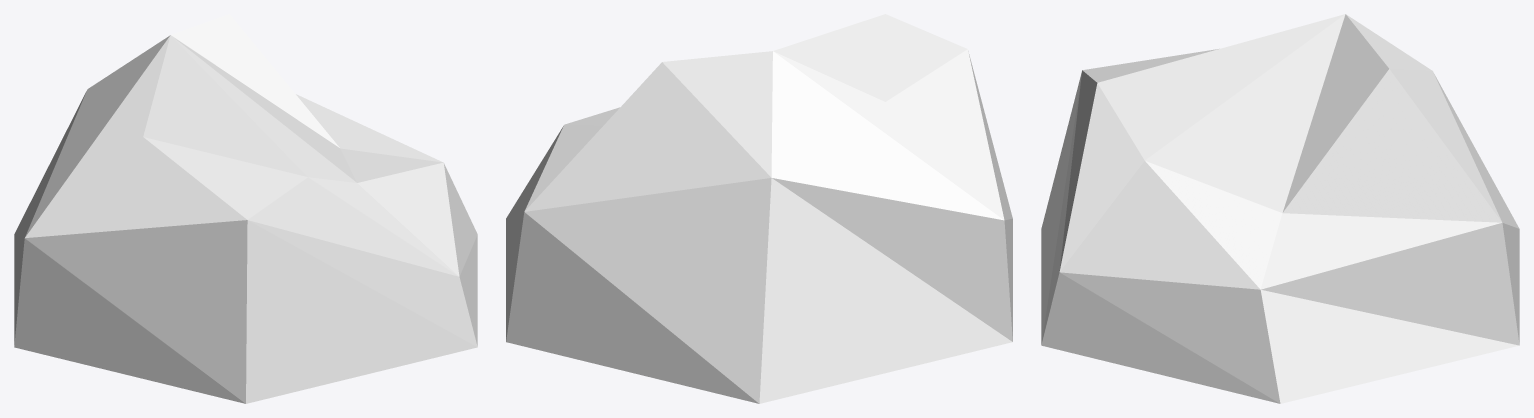
The model's file is Rock_White_2.fbx.
The picture shows the model from 3 angles, left to right: view 1: azimuth 30°, elevation 25°; view 2: azimuth 150°, elevation 25°; view 3: azimuth 270°, elevation 25°; orthographic projection. The views are drawn at different scales.
Parts seen in each view (by area): view 1: Rock_White_2; view 2: Rock_White_2; view 3: Rock_White_2.
Boxes of the visible parts, x1,y1,x2,y2 form: Rock_White_2: (14,14,477,403); Rock_White_2: (506,14,1012,403); Rock_White_2: (1041,14,1519,403).
Bounding box in the file's own units: 1.46 × 0.7304 × 1.26.
